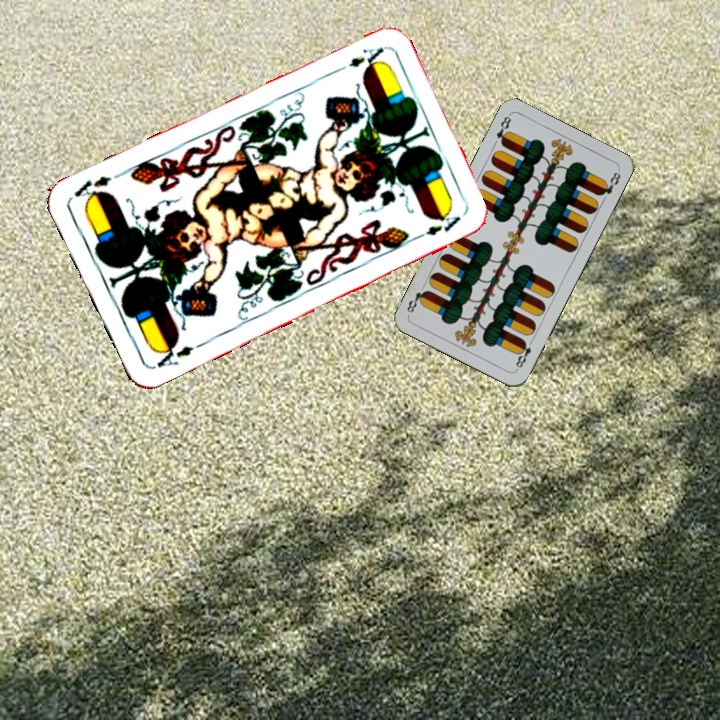E8: (511, 335, 537, 372), (492, 111, 514, 149)
EA: (151, 337, 197, 371), (345, 43, 387, 72)
